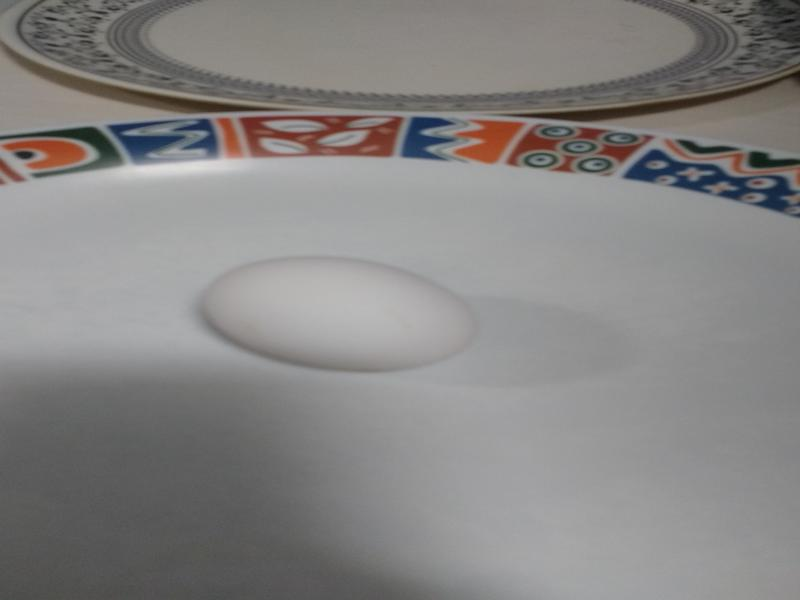egg: (201, 257, 475, 367)
